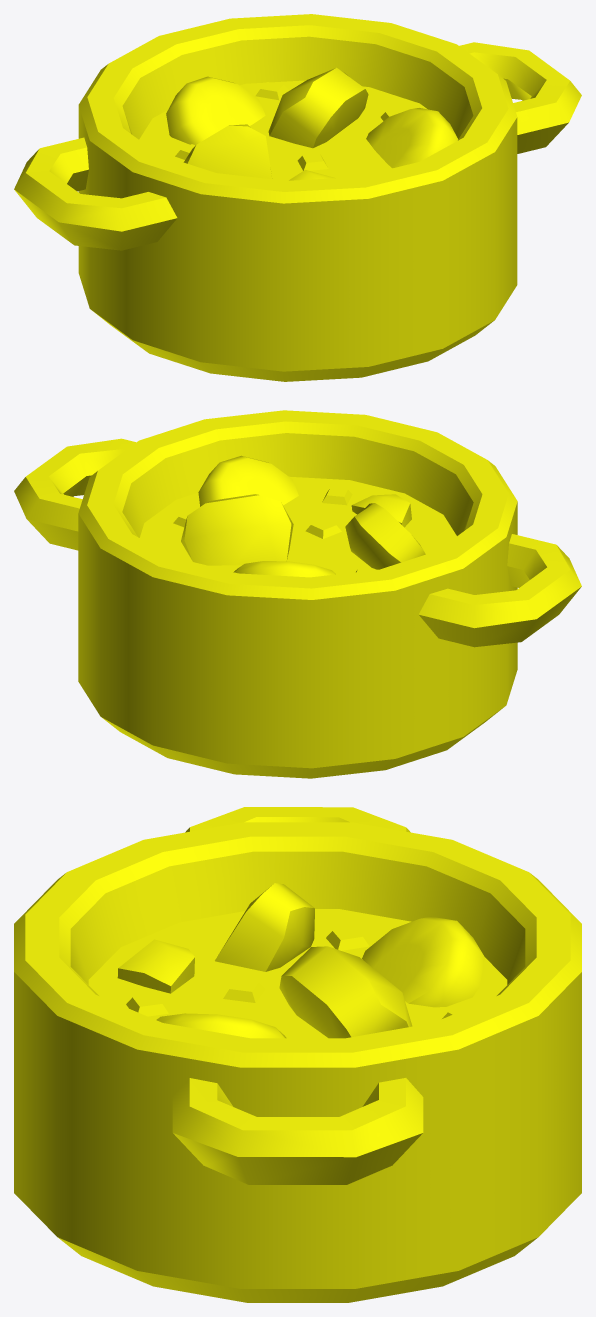
The model's file is kaykit-pot-b-stew.glb.
The picture shows the model from 3 angles, top to bottom: view 1: azimuth 30°, elevation 25°; view 2: azimuth 150°, elevation 25°; view 3: azimuth 270°, elevation 25°; orthographic projection. The views are drawn at different scales.
Parts seen in each view (by area): view 1: pot_B_stew; view 2: pot_B_stew; view 3: pot_B_stew.
Boxes of the visible parts, <box> form: pot_B_stew: <box>14,14,581,381</box>; pot_B_stew: <box>14,410,581,778</box>; pot_B_stew: <box>14,807,581,1302</box>.
Size of the model in its own units: 1.4 by 0.516 by 1.
